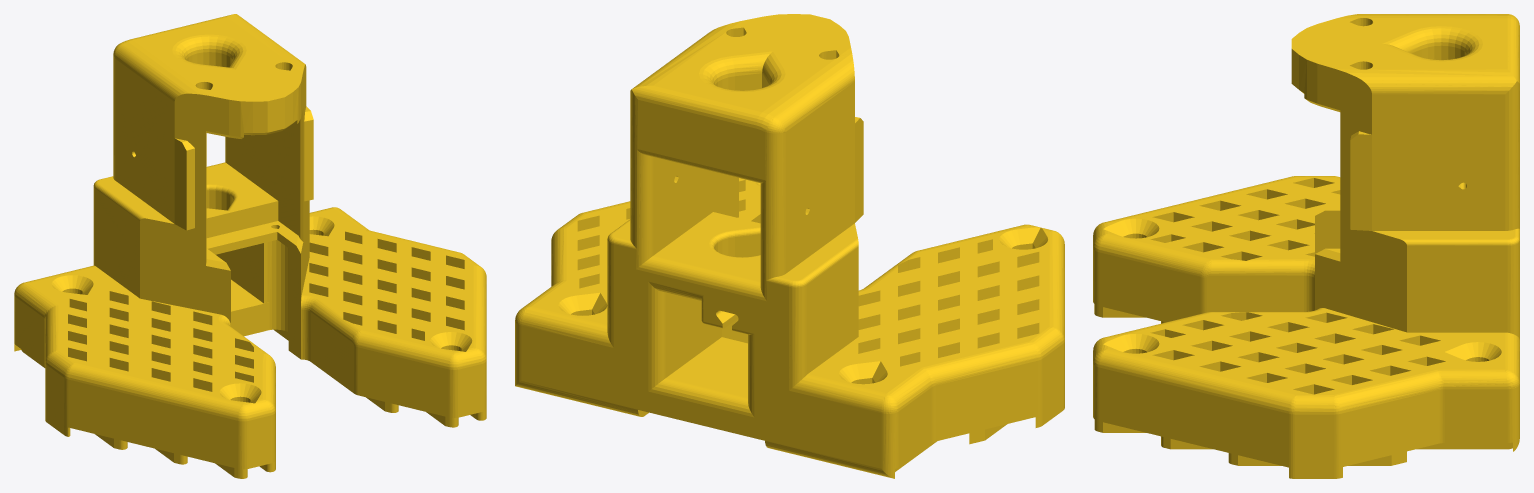
Rendered from So-101_base_link_visual_vis_2.dae.
The picture shows the model from 3 angles, left to right: view 1: azimuth 30°, elevation 25°; view 2: azimuth 150°, elevation 25°; view 3: azimuth 270°, elevation 25°; orthographic projection. The views are drawn at different scales.
Parts seen in each view (by area): view 1: node; view 2: node; view 3: node.
Part boxes in pixels (box(x1,y1,x2,y2)): node: box(14, 14, 486, 478); node: box(515, 14, 1064, 478); node: box(1093, 14, 1519, 478).
Size of the model in its own units: 0.1109 by 0.072 by 0.087.
